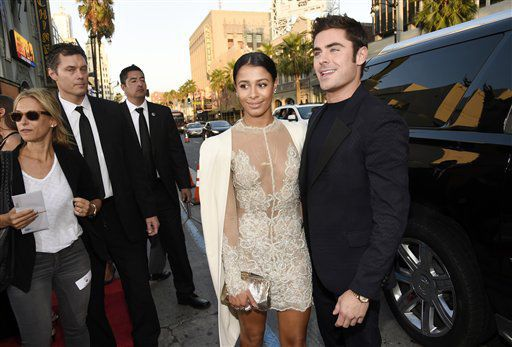Person: (299, 11, 413, 347), (46, 43, 162, 347), (198, 52, 314, 347), (1, 87, 104, 347), (120, 64, 211, 310)
